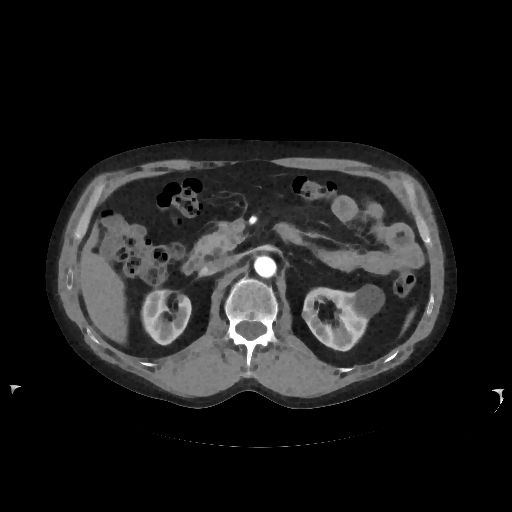Lesion: (351, 276, 388, 321)
